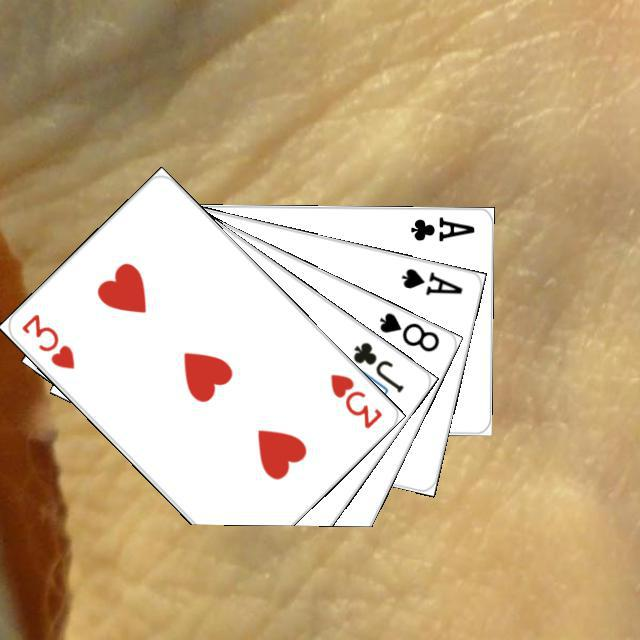3h: (16, 308, 77, 371), (325, 369, 384, 431)
8s: (374, 307, 442, 354)
Ac: (405, 212, 476, 243)
As: (396, 263, 465, 297)
Jc: (348, 337, 406, 395)
